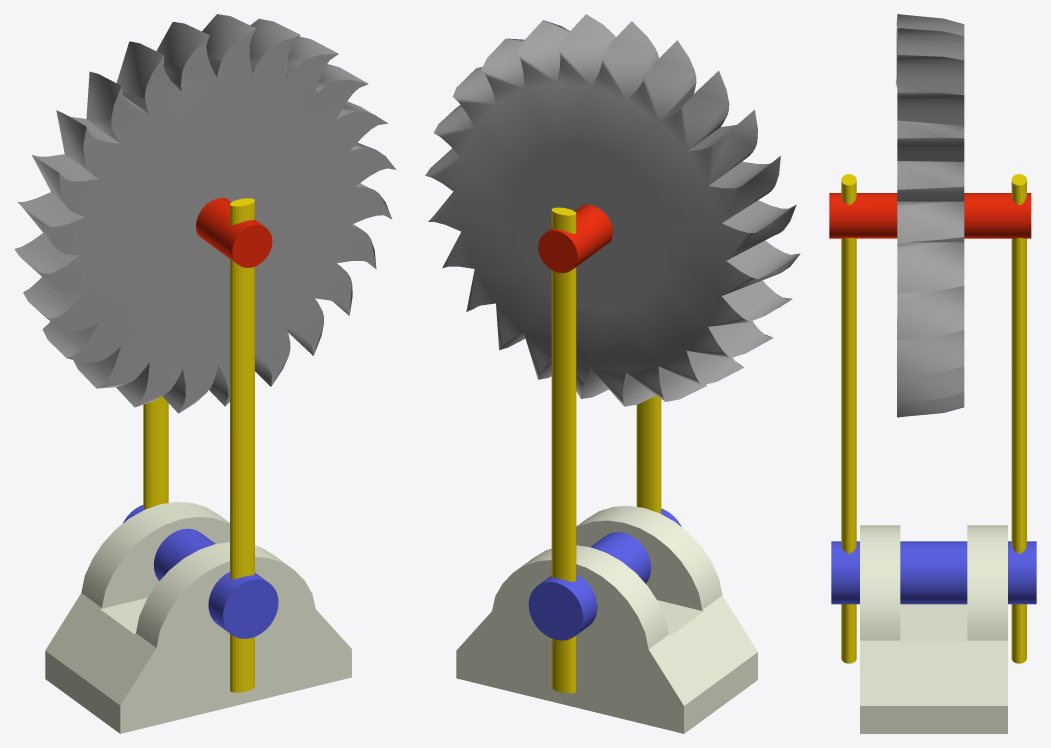
The model's file is Saw.fbx.
The picture shows the model from 3 angles, left to right: view 1: azimuth 30°, elevation 25°; view 2: azimuth 150°, elevation 25°; view 3: azimuth 270°, elevation 25°; orthographic projection.
Parts seen in each view (by area): view 1: Blade, Stage, Handles, Holder, BladeHolder; view 2: Blade, Stage, Handles, Holder, BladeHolder; view 3: Blade, Stage, Handles, Holder, BladeHolder.
Boxes of the visible parts, left/top/right/bottom form: Blade: left=14, top=14, right=396, bottom=413; Stage: left=45, top=502, right=351, bottom=733; Handles: left=143, top=198, right=254, bottom=692; Holder: left=123, top=505, right=278, bottom=638; BladeHolder: left=196, top=197, right=272, bottom=267; Blade: left=425, top=14, right=800, bottom=406; Stage: left=456, top=505, right=757, bottom=733; Handles: left=551, top=207, right=661, bottom=693; Holder: left=528, top=508, right=681, bottom=640; BladeHolder: left=538, top=204, right=612, bottom=273; Blade: left=895, top=14, right=964, bottom=417; Stage: left=860, top=525, right=1007, bottom=733; Handles: left=841, top=174, right=1026, bottom=663; Holder: left=831, top=541, right=1036, bottom=604; BladeHolder: left=829, top=193, right=1031, bottom=238.
Bounding box in the file's own units: 6.55 × 3.34 × 11.5.
